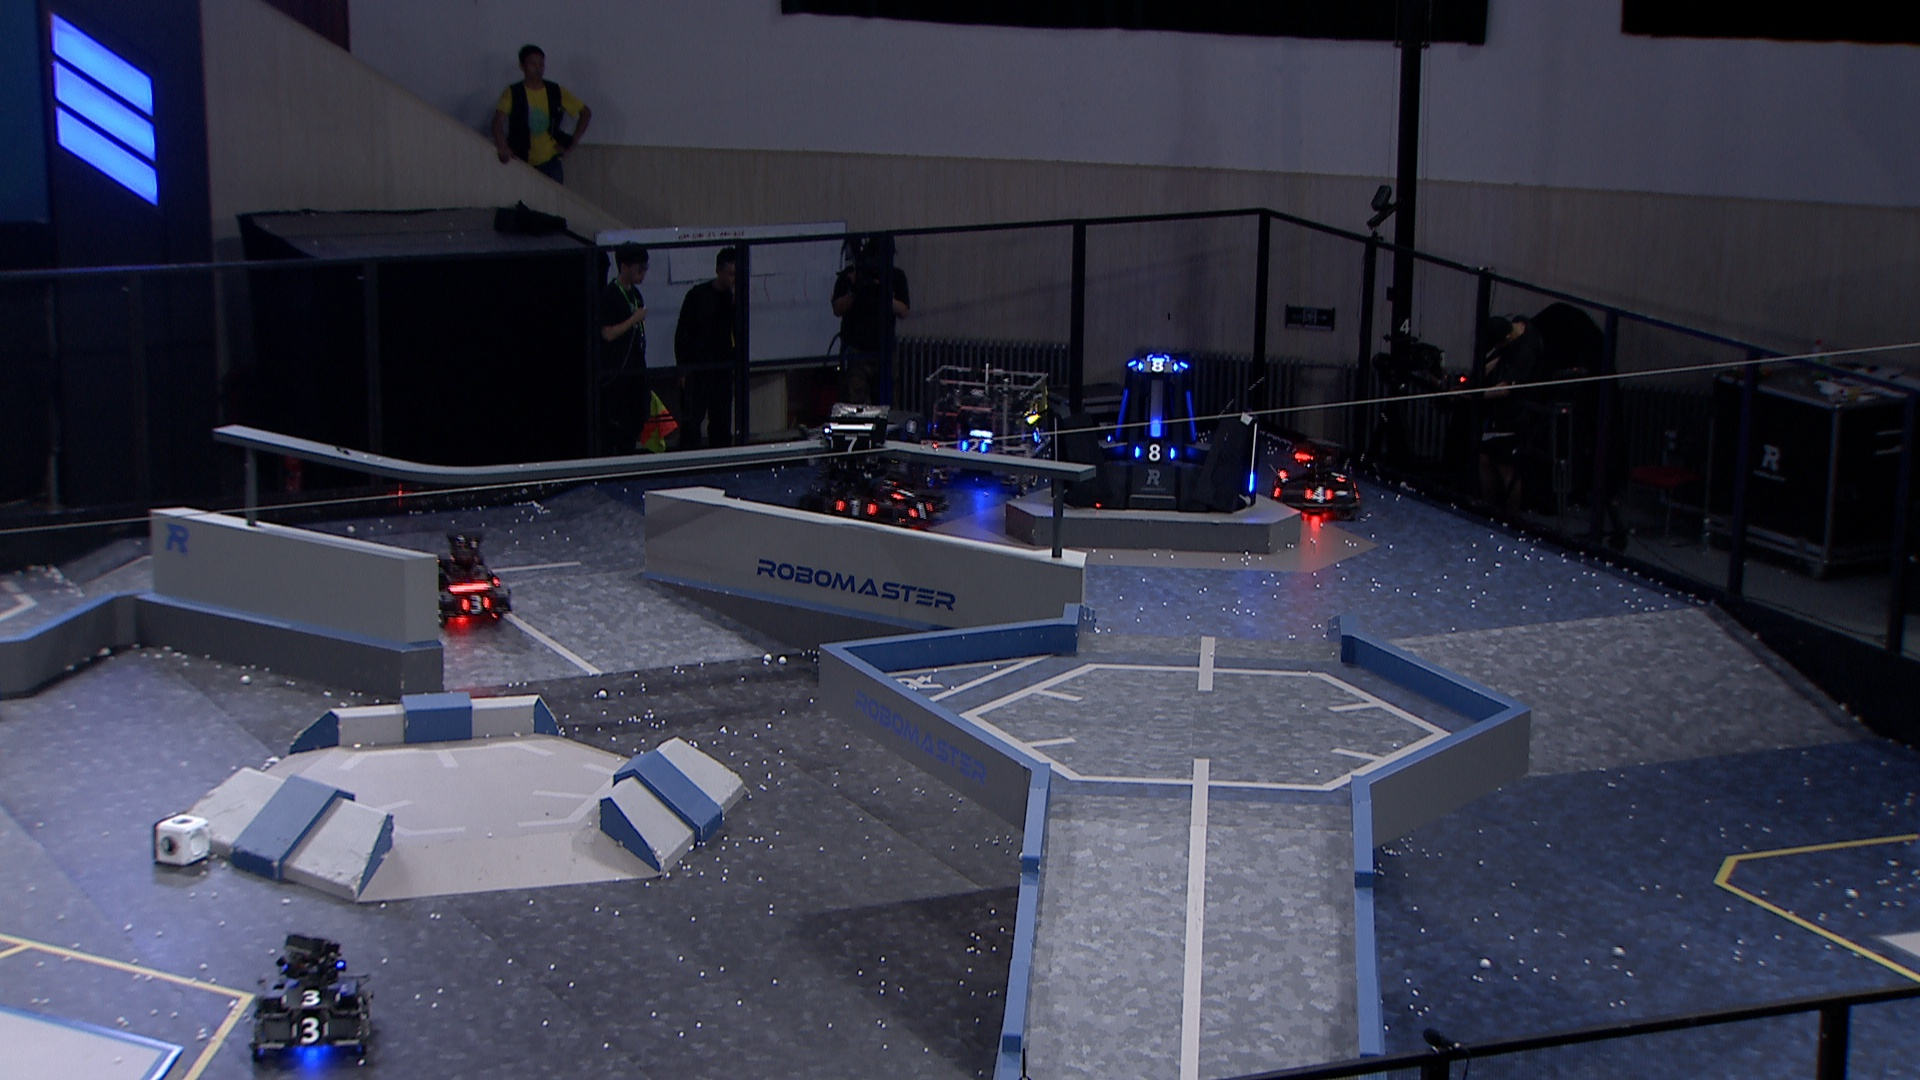armor: (286, 1015, 332, 1044), (278, 986, 342, 1007), (1109, 386, 1133, 440), (831, 496, 876, 520), (1183, 390, 1200, 444), (825, 436, 874, 455), (1134, 442, 1178, 462), (1135, 356, 1182, 375), (906, 496, 934, 522), (458, 593, 491, 615), (885, 481, 920, 500), (956, 436, 989, 455), (1304, 485, 1335, 505), (1145, 414, 1167, 438), (353, 992, 371, 1022), (1329, 465, 1349, 484), (1245, 469, 1258, 495), (1029, 427, 1044, 446)
base: (1048, 351, 1265, 518)
car: (918, 363, 1055, 495), (798, 413, 949, 529), (247, 928, 376, 1064), (414, 531, 513, 624), (1269, 439, 1365, 520)
watcher: (822, 400, 895, 489)
